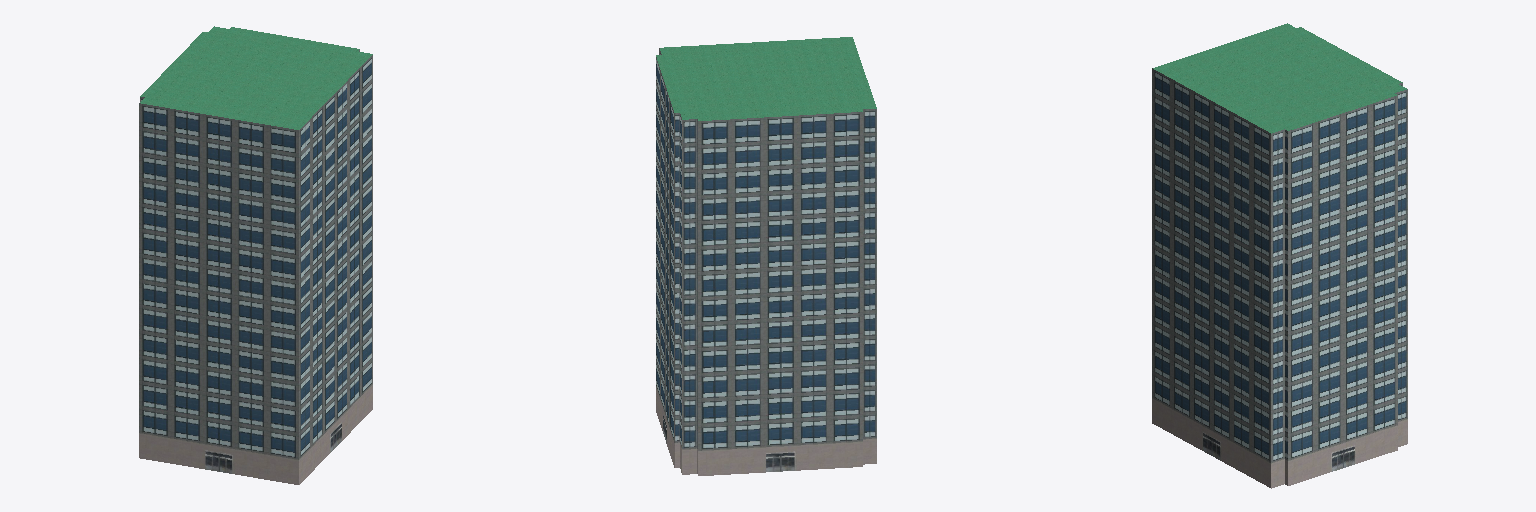
3 renders of one model, left to right at view 1: azimuth 30°, elevation 25°; view 2: azimuth 150°, elevation 25°; view 3: azimuth 270°, elevation 25°, orthographic.
Visible parts, largest first — view 1: BuildingMaster_[number redacted]_0, BuildingMaster_[number redacted]_1; view 2: BuildingMaster_[number redacted]_0, BuildingMaster_[number redacted]_1; view 3: BuildingMaster_[number redacted]_0, BuildingMaster_[number redacted]_1.
Part boxes in pixels (x1,y1,x2,y2): BuildingMaster_[number redacted]_0: (139,50,372,484); BuildingMaster_[number redacted]_1: (140,26,372,129); BuildingMaster_[number redacted]_0: (656,48,876,475); BuildingMaster_[number redacted]_1: (656,37,876,120); BuildingMaster_[number redacted]_0: (1152,68,1407,488); BuildingMaster_[number redacted]_1: (1153,23,1406,133).
Bounding box in the file's own units: 32.63 × 49 × 31.95.
Materials: 2 (2 with a texture image).